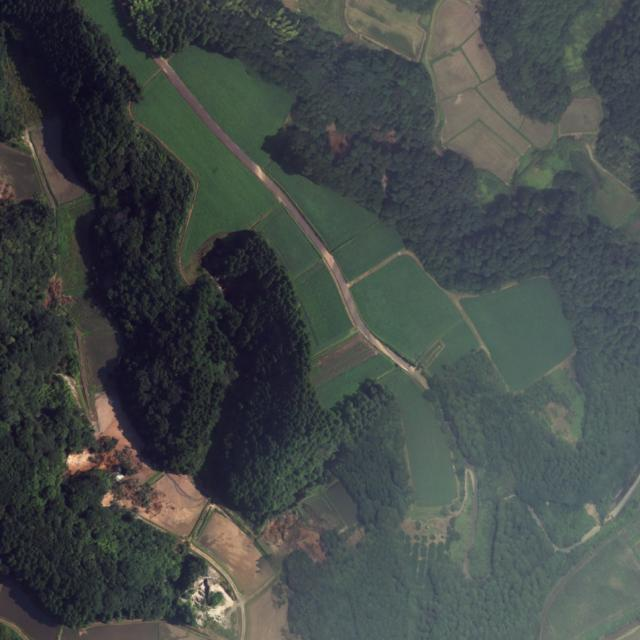landslide: (91, 392, 115, 437), (66, 451, 93, 474), (106, 437, 118, 452)
